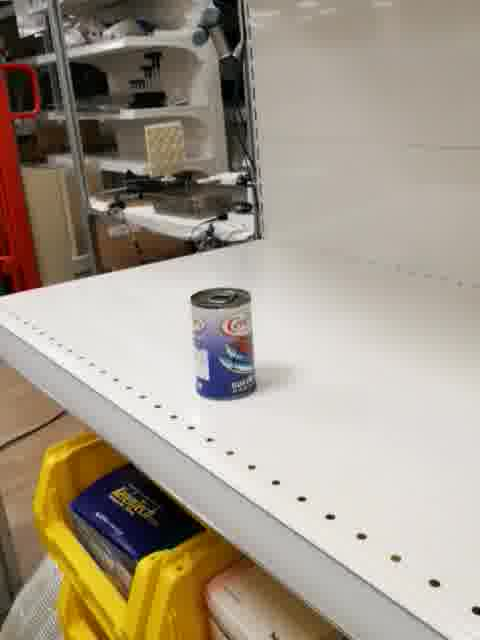sardine: (189, 287, 256, 401)
